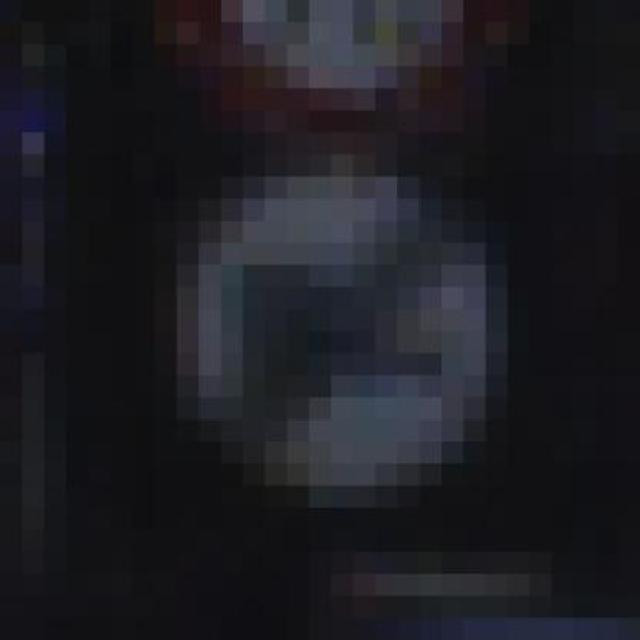Overtaking by trucks is prohibited: (111, 132, 574, 530)
